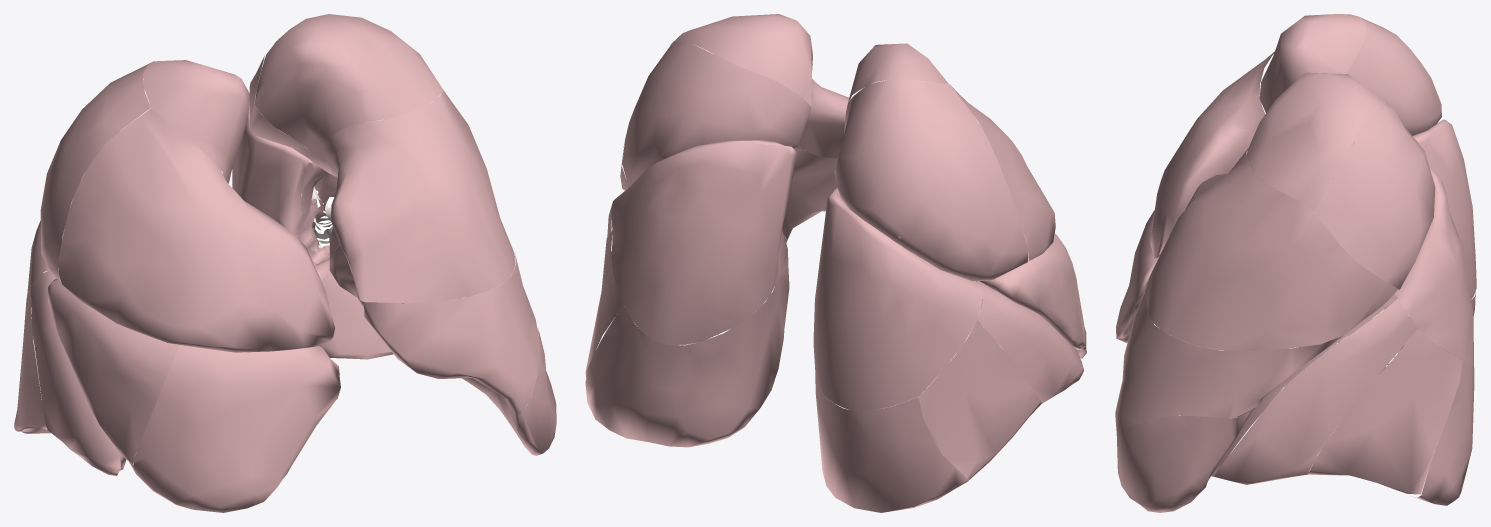
Rendered from 3d-vh-m-lung.glb.
The picture shows the model from 3 angles, left to right: view 1: azimuth 30°, elevation 25°; view 2: azimuth 150°, elevation 25°; view 3: azimuth 270°, elevation 25°; orthographic projection. The views are drawn at different scales.
Visible parts, largest first — view 1: VH_M_right_anterior_bronchopulmonary_segment, VH_M_left_anterior_bronchopulmonary_segment, VH_M_right_medial_bronchopulmonary_segment, VH_M_left_apical_bronchopulmonary_segment, VH_M_left_lingula_superior_bronchopulmonary_segment, VH_M_right_lateral_bronchopulmonary_segment, VH_M_right_apical_bronchopulmonary_segment, VH_M_right_posterior_bronchopulmonary_segment, VH_M_right_anterior_basal_bronchopulmonary_segment, VH_M_left_superior_bronchopulmonary_segment, VH_M_left_lingula_inferior_bronchopulmonary_segment, VH_M_left_medial_basal_bronchopulmonary_segment (+5 smaller); view 2: VH_M_left_superior_bronchopulmonary_segment, VH_M_right_posterior_bronchopulmonary_segment, VH_M_right_superior_bronchopulmonary_segment, VH_M_left_posetrior_basal_bronchopulmonary_segment, VH_M_left_posterior_bronchopulmonary_segment, VH_M_right_posterior_basal_bronchopulmonary_segment, VH_M_right_lateral_basal_bronchopulmonary_segment, VH_M_left_apical_bronchopulmonary_segment, VH_M_right_anterior_basal_bronchopulmonary_segment, VH_M_right_lateral_bronchopulmonary_segment, VH_M_right_anterior_bronchopulmonary_segment, VH_M_left_lingula_superior_bronchopulmonary_segment (+3 smaller); view 3: VH_M_left_anterior_bronchopulmonary_segment, VH_M_left_posterior_bronchopulmonary_segment, VH_M_left_lateral_basal_bronchopulmonary_segment, VH_M_left_anterior_basal_bronchopulmonary_segment, VH_M_left_lingula_superior_bronchopulmonary_segment, VH_M_left_apical_bronchopulmonary_segment, VH_M_left_lingula_inferior_bronchopulmonary_segment, VH_M_right_anterior_bronchopulmonary_segment, VH_M_left_superior_bronchopulmonary_segment, VH_M_right_posterior_bronchopulmonary_segment, VH_M_right_apical_bronchopulmonary_segment, VH_M_left_posetrior_basal_bronchopulmonary_segment (+3 smaller).
Boxes of the visible parts, x1,y1,x2,y2 form: VH_M_right_anterior_bronchopulmonary_segment: (59, 108, 334, 352); VH_M_left_anterior_bronchopulmonary_segment: (324, 90, 515, 303); VH_M_right_medial_bronchopulmonary_segment: (129, 345, 340, 512); VH_M_left_apical_bronchopulmonary_segment: (254, 14, 443, 162); VH_M_left_lingula_superior_bronchopulmonary_segment: (359, 254, 538, 414); VH_M_right_lateral_bronchopulmonary_segment: (48, 278, 179, 465); VH_M_right_apical_bronchopulmonary_segment: (143, 60, 250, 183); VH_M_right_posterior_bronchopulmonary_segment: (40, 62, 152, 283); VH_M_right_anterior_basal_bronchopulmonary_segment: (30, 269, 126, 475); VH_M_left_superior_bronchopulmonary_segment: (232, 88, 312, 238); VH_M_left_lingula_inferior_bronchopulmonary_segment: (329, 244, 556, 455); VH_M_left_medial_basal_bronchopulmonary_segment: (319, 271, 502, 359); VH_M_left_superior_bronchopulmonary_segment: (611, 140, 796, 345); VH_M_right_posterior_bronchopulmonary_segment: (834, 80, 1028, 281); VH_M_right_superior_bronchopulmonary_segment: (813, 187, 983, 411); VH_M_left_posetrior_basal_bronchopulmonary_segment: (585, 262, 789, 447); VH_M_left_posterior_bronchopulmonary_segment: (622, 41, 811, 187); VH_M_right_posterior_basal_bronchopulmonary_segment: (815, 369, 968, 512); VH_M_right_lateral_basal_bronchopulmonary_segment: (918, 321, 1041, 480); VH_M_left_apical_bronchopulmonary_segment: (670, 14, 812, 106); VH_M_right_anterior_basal_bronchopulmonary_segment: (977, 281, 1083, 403); VH_M_right_lateral_bronchopulmonary_segment: (976, 232, 1085, 348); VH_M_right_anterior_bronchopulmonary_segment: (950, 85, 1055, 260); VH_M_left_lingula_superior_bronchopulmonary_segment: (623, 148, 838, 240); VH_M_left_anterior_bronchopulmonary_segment: (1145, 148, 1398, 350); VH_M_left_posterior_bronchopulmonary_segment: (1314, 101, 1435, 289); VH_M_left_lateral_basal_bronchopulmonary_segment: (1308, 329, 1462, 494); VH_M_left_anterior_basal_bronchopulmonary_segment: (1211, 298, 1417, 484); VH_M_left_lingula_superior_bronchopulmonary_segment: (1115, 291, 1395, 434); VH_M_left_apical_bronchopulmonary_segment: (1246, 72, 1385, 211); VH_M_left_lingula_inferior_bronchopulmonary_segment: (1116, 408, 1254, 512); VH_M_right_anterior_bronchopulmonary_segment: (1150, 51, 1274, 258); VH_M_left_superior_bronchopulmonary_segment: (1394, 168, 1473, 366); VH_M_right_posterior_bronchopulmonary_segment: (1347, 17, 1441, 135); VH_M_right_apical_bronchopulmonary_segment: (1259, 14, 1366, 112); VH_M_left_posetrior_basal_bronchopulmonary_segment: (1411, 361, 1474, 505).
Bounding box in the file's own units: 0.2592 × 0.2296 × 0.1899.
